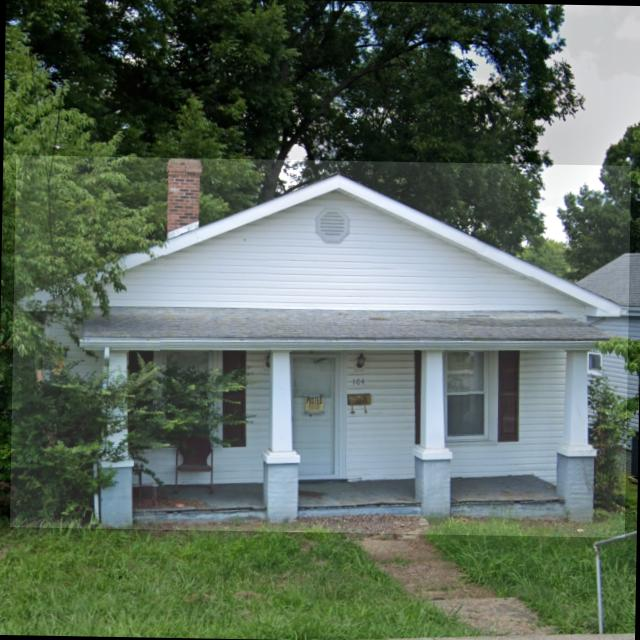House: (9, 155, 630, 538)
